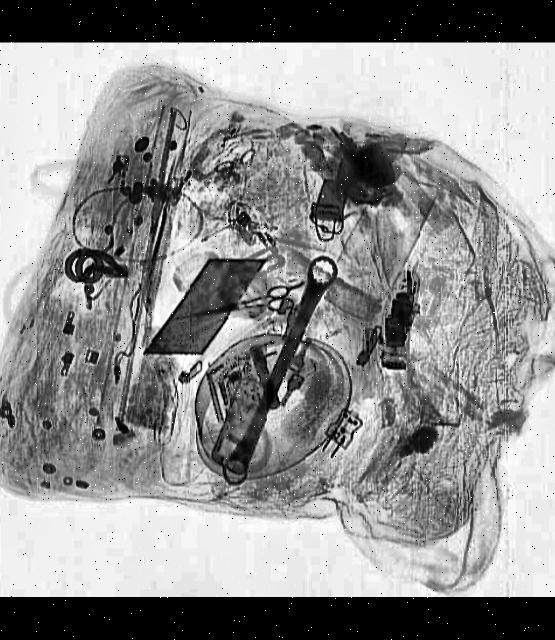Wrench: (216, 253, 344, 492)
